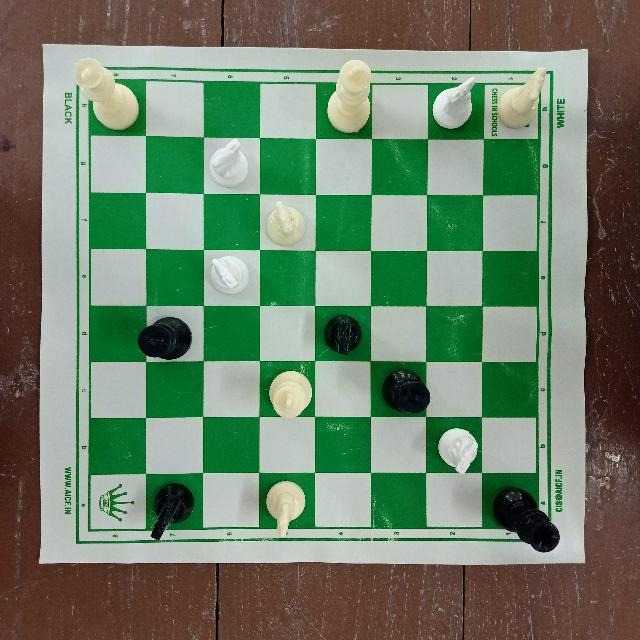black-king: (489, 484, 561, 554), (135, 312, 195, 361), (381, 368, 431, 416)
black-knight: (149, 478, 196, 542), (319, 310, 367, 358)
white-king: (323, 54, 373, 133), (262, 364, 318, 424)
white-knight: (497, 64, 547, 132), (258, 476, 310, 538), (430, 72, 477, 136), (432, 423, 481, 476), (204, 139, 255, 189), (262, 197, 310, 249), (204, 252, 251, 296)
white-queen: (74, 57, 143, 132)
